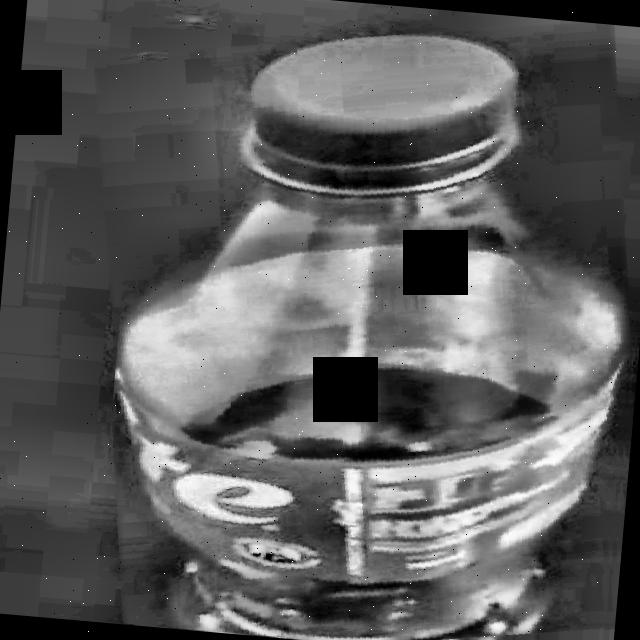bottle: (113, 34, 634, 640)
